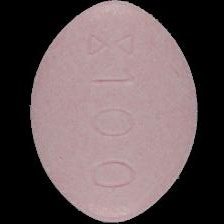66336-570: (0, 0, 224, 224)
